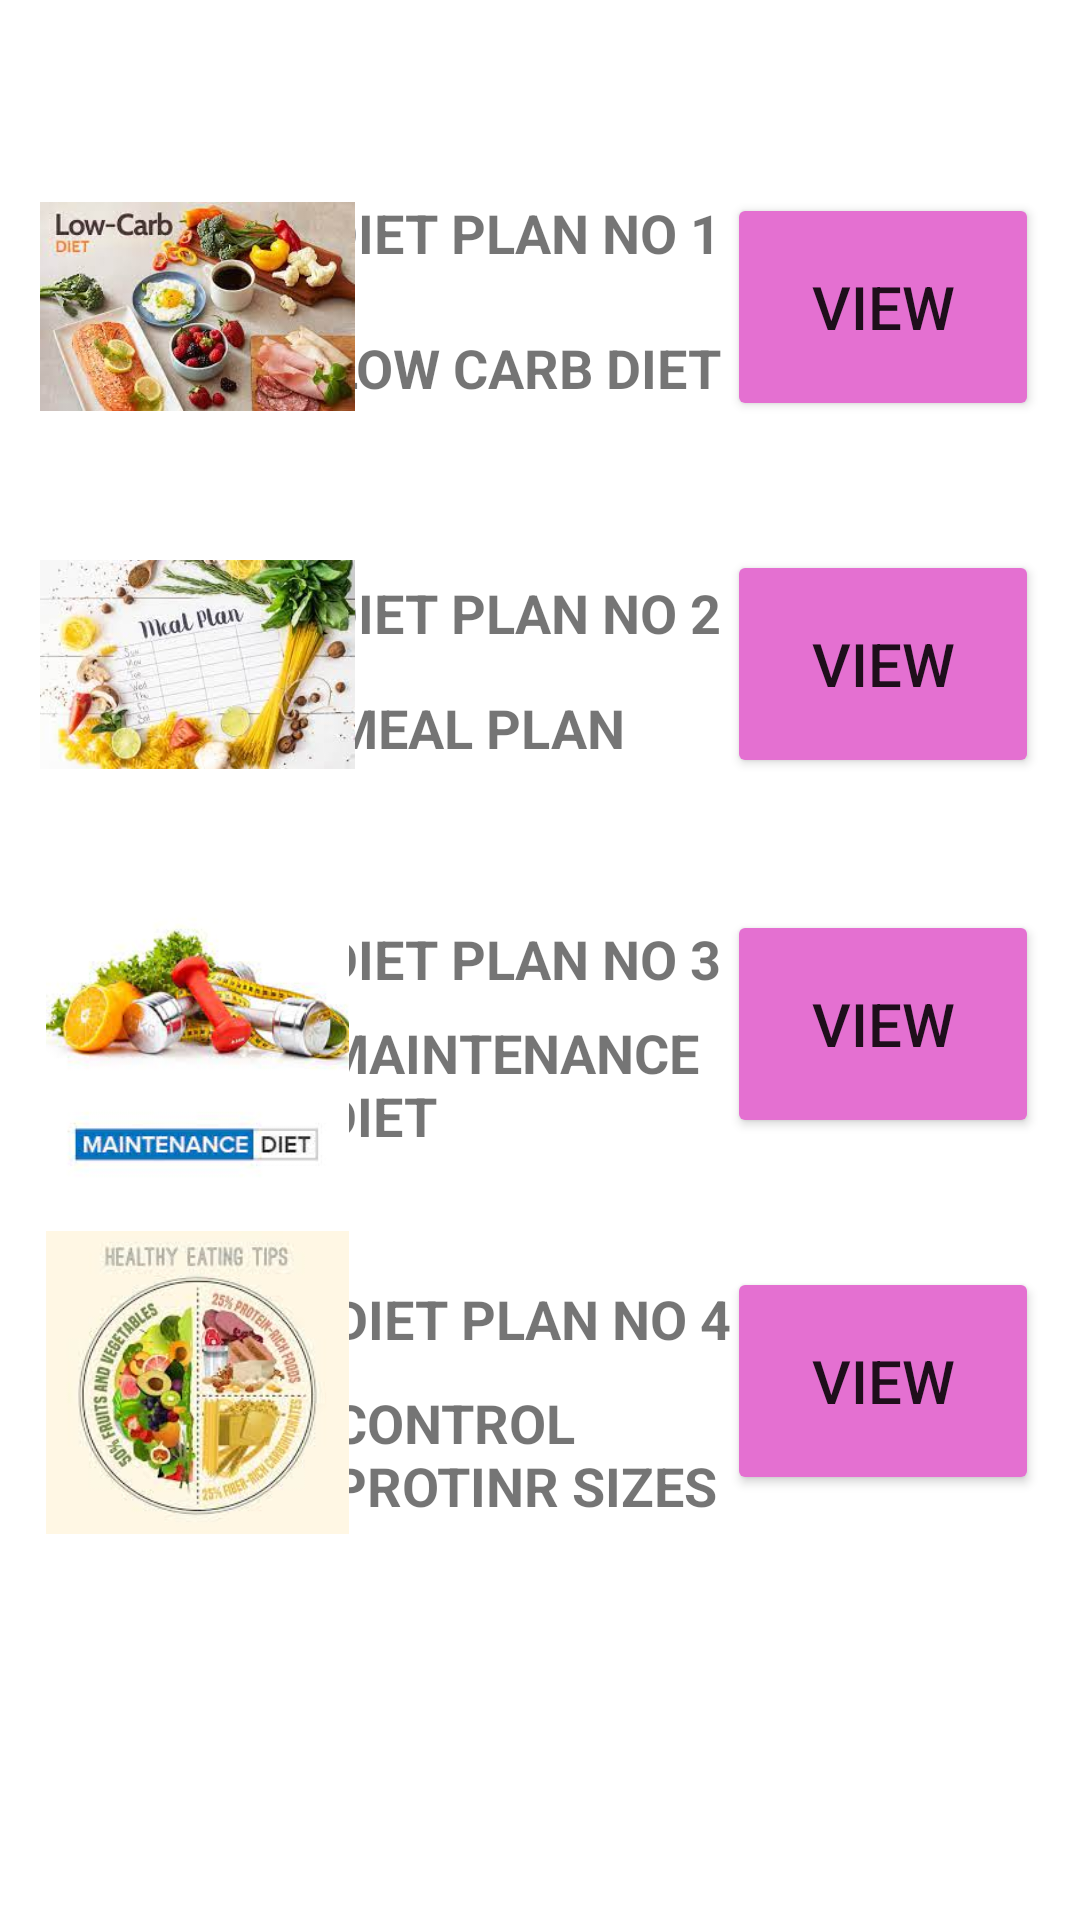

Named icons in this screenshot (1080px x 1920px) and their bounding boxes, (x1, y1, x2, y2):
protinesize: (46, 1231, 355, 1534)
